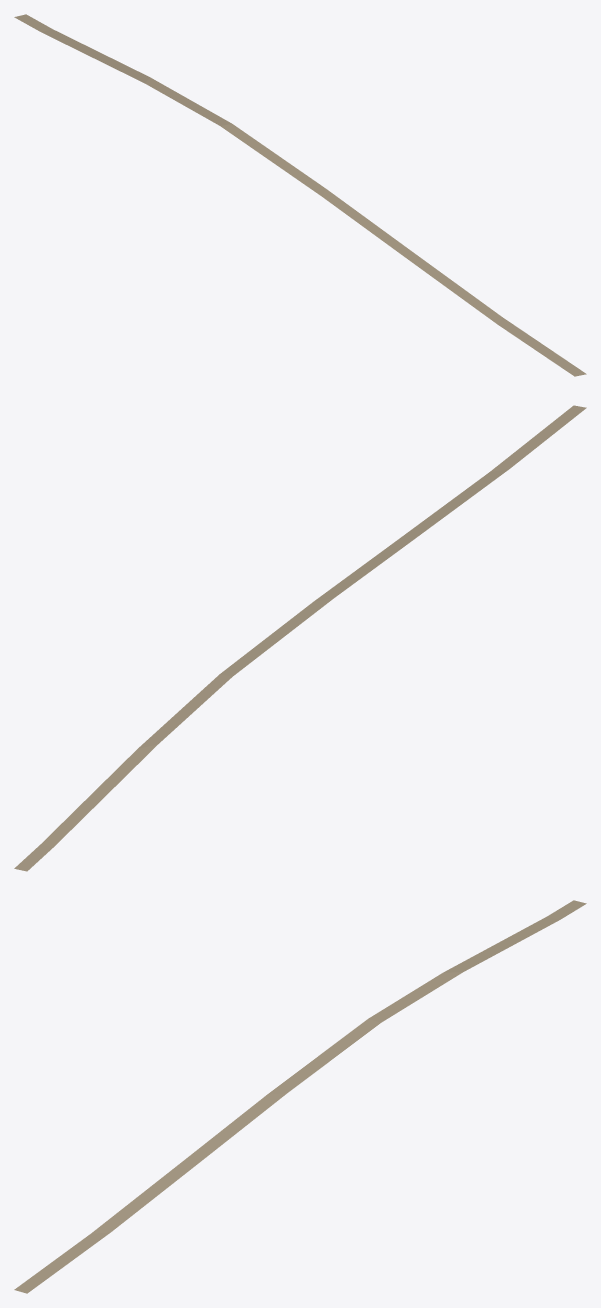
The model's file is farm_-35_-25_track.glb.
3 renders of one model, top to bottom at view 1: azimuth 30°, elevation 25°; view 2: azimuth 150°, elevation 25°; view 3: azimuth 330°, elevation 25°, orthographic. The views are drawn at different scales.
Visible parts, largest first — view 1: geometry_0; view 2: geometry_0; view 3: geometry_0.
Part boxes in pixels (x1,y1,x2,y2): geometry_0: (14,14,586,376); geometry_0: (14,405,586,871); geometry_0: (14,900,586,1293).
Bounding box in the file's own units: 7.64 × 9.47 × 250.
